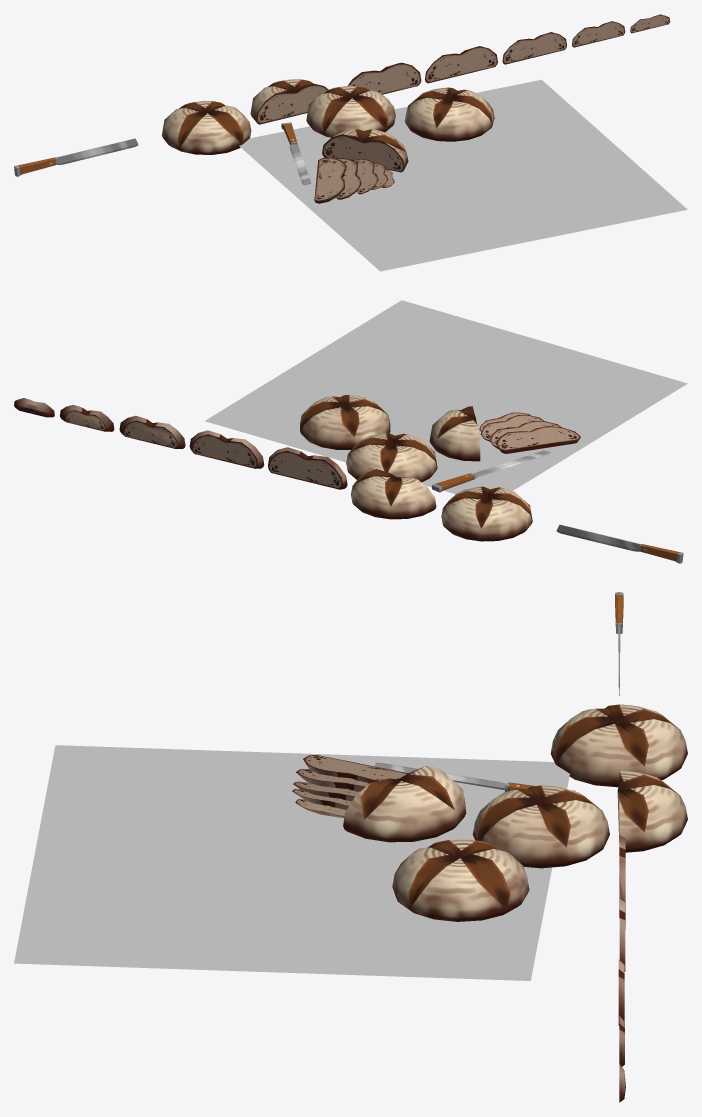
File: Bauernbrot.fbx
3 views of the same model, one above another, from view 1: azimuth 30°, elevation 25°; view 2: azimuth 150°, elevation 25°; view 3: azimuth 270°, elevation 25° (orthographic). The views are drawn at different scales.
Visible parts, largest first — view 1: Fläche.001, Zylinder.010, Bread, Zylinder.003, Zylinder.004, Bread half, Slice 2, Slice 1, Slice 3, Zylinder.005, Breadknife, Slice 4 (+4 smaller); view 2: Fläche.001, Bread, Zylinder.010, Zylinder.003, Bread half, Zylinder.004, Slice 1, Slice 2, Zylinder.005, Slice 3, Breadknife, Slice 4 (+4 smaller); view 3: Fläche.001, Zylinder.010, Zylinder.003, Bread, Zylinder.004, Bread half, Zylinder.005, Würfel.001, Zylinder.006.
Boxes of the visible parts, x1,y1,x2,y2 form: Fläche.001: (239, 79, 687, 271); Zylinder.010: (405, 87, 494, 141); Bread: (162, 100, 251, 154); Zylinder.003: (306, 85, 395, 137); Zylinder.004: (322, 129, 408, 172); Bread half: (250, 79, 328, 124); Slice 2: (425, 46, 497, 83); Slice 1: (348, 62, 421, 94); Slice 3: (502, 32, 566, 64); Zylinder.005: (314, 157, 346, 203); Breadknife: (14, 138, 138, 176); Slice 4: (572, 21, 625, 47); Fläche.001: (204, 300, 687, 494); Bread: (441, 486, 532, 541); Zylinder.010: (300, 395, 390, 449); Zylinder.003: (346, 432, 437, 482); Bread half: (351, 469, 436, 519); Zylinder.004: (429, 406, 480, 461); Slice 1: (268, 447, 347, 489); Slice 2: (189, 430, 264, 468); Zylinder.005: (496, 426, 580, 453); Slice 3: (119, 415, 185, 448); Breadknife: (556, 524, 683, 563); Slice 4: (60, 405, 114, 431); Fläche.001: (14, 745, 569, 980); Zylinder.010: (392, 839, 529, 921); Zylinder.003: (472, 785, 609, 868); Bread: (550, 704, 687, 787); Zylinder.004: (343, 765, 466, 842); Bread half: (617, 770, 687, 852); Zylinder.005: (303, 755, 407, 783); Würfel.001: (375, 762, 575, 791); Zylinder.006: (296, 769, 369, 791).
Size of what is drawn, in the model's own units: 1670 by 79.31 by 977.
